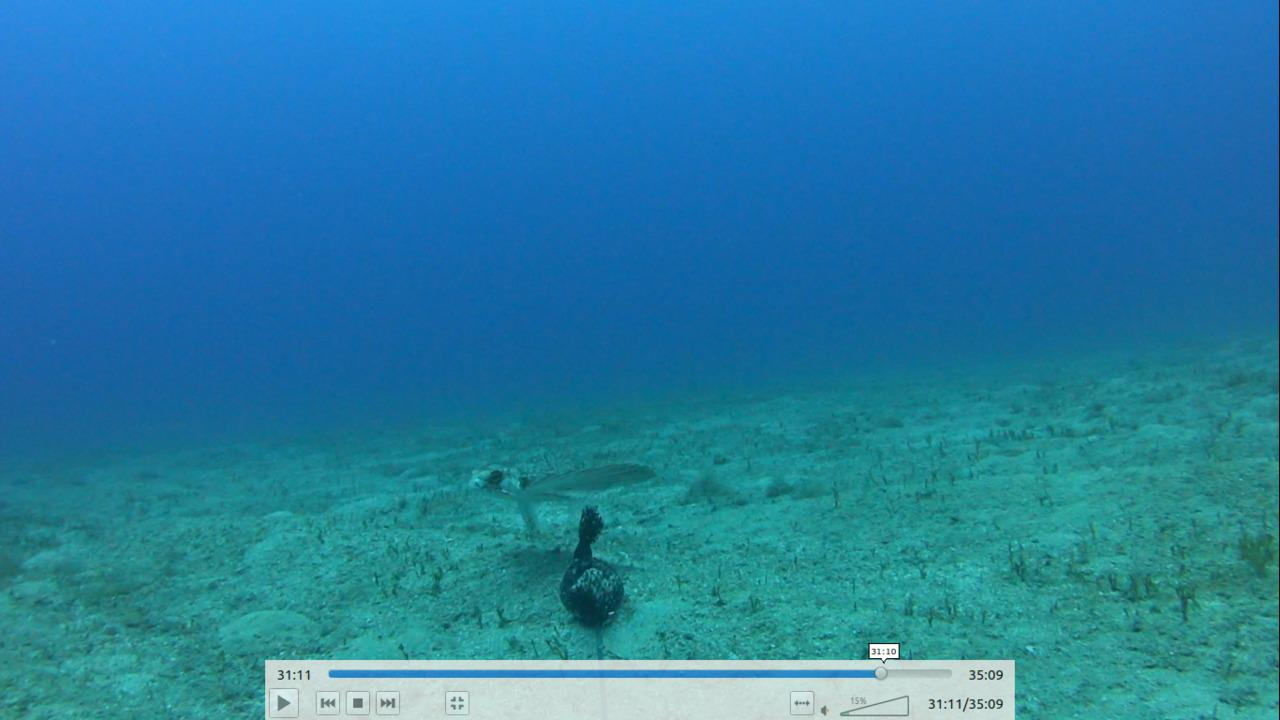dactylopterus: (465, 451, 657, 546)
